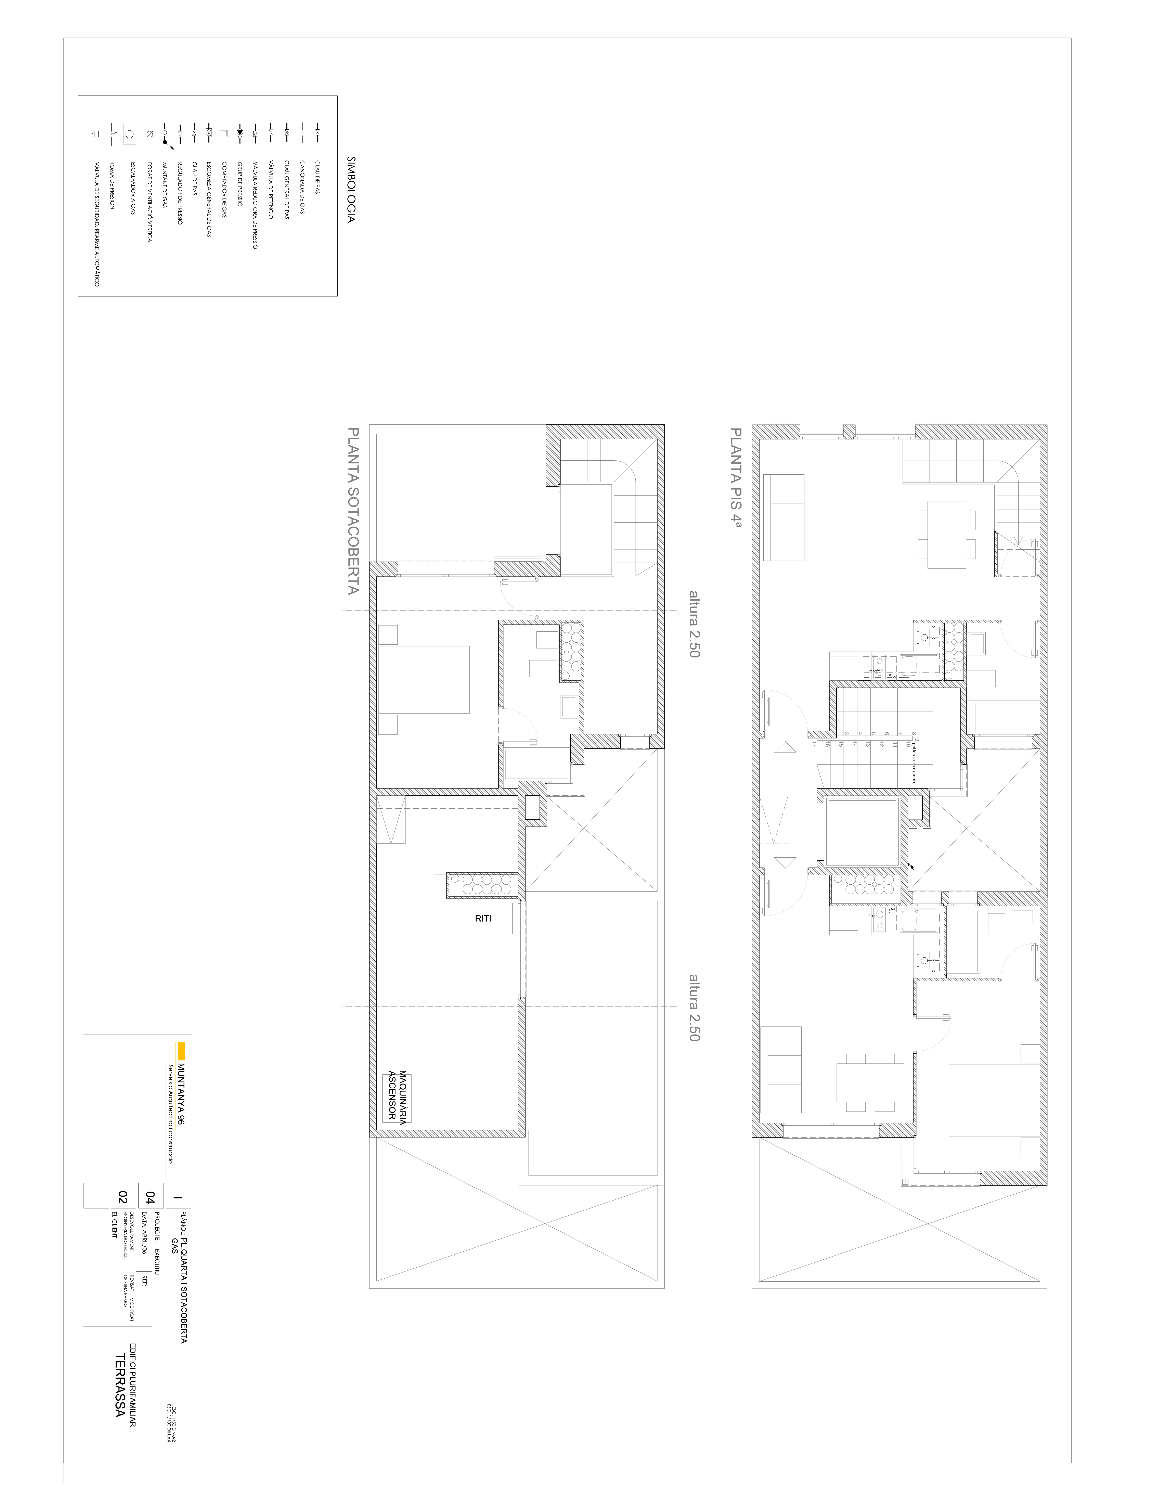door: (759, 866, 811, 917), (761, 690, 811, 739)
